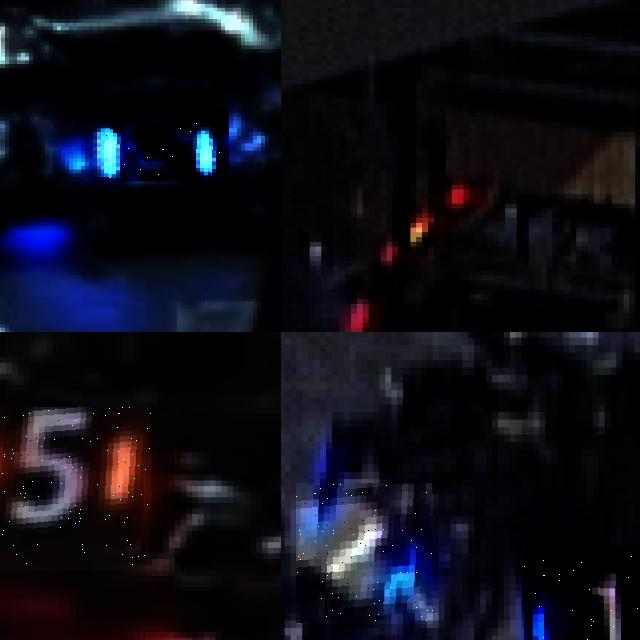B1: (296, 483, 433, 624), (524, 546, 640, 640)
Bs: (101, 109, 229, 181)
R5: (0, 407, 151, 570)
